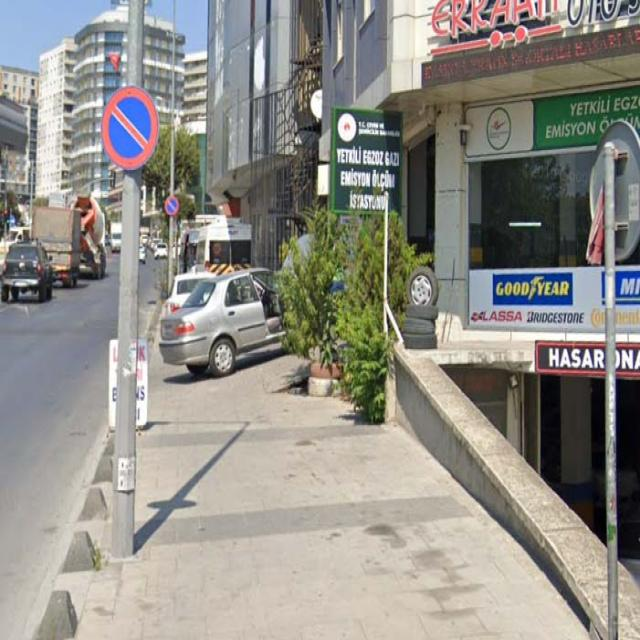parkyasak: (102, 86, 158, 169), (164, 194, 179, 215)
